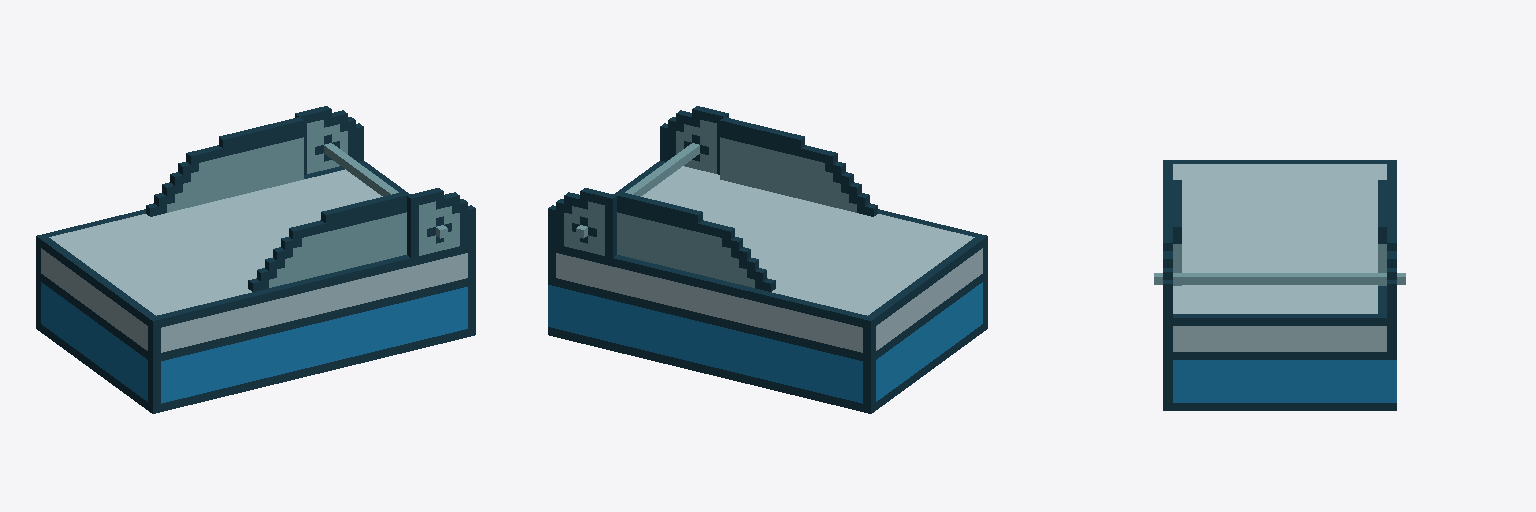
3 renders of one model, left to right at view 1: azimuth 30°, elevation 25°; view 2: azimuth 150°, elevation 25°; view 3: azimuth 270°, elevation 25°, orthographic.
Visible parts, largest first — view 1: object 1; view 2: object 1; view 3: object 1.
Part boxes in pixels (x1,y1,x2,y2): object 1: (36,106,475,413); object 1: (548,106,987,413); object 1: (1154,160,1405,410).
Bounding box in the file's own units: 4 × 1.8 × 2.7.
Materials: 1 (1 with a texture image).